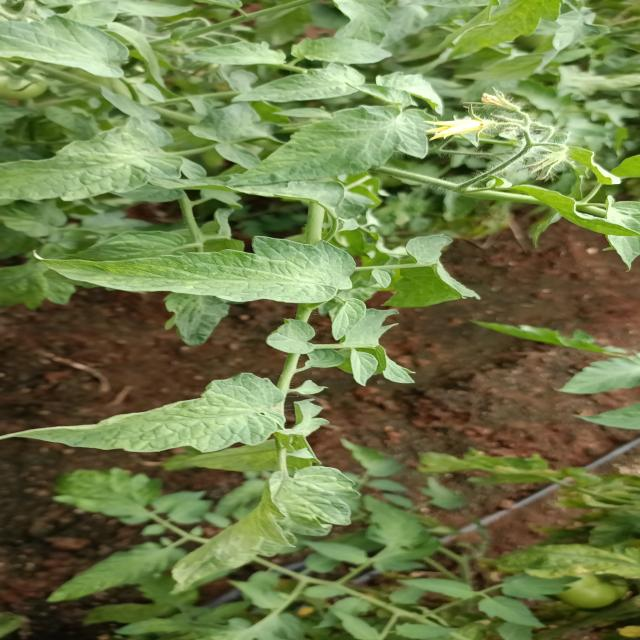Healthy Leaf: (21, 221, 358, 314), (0, 372, 289, 474), (204, 101, 440, 197)
